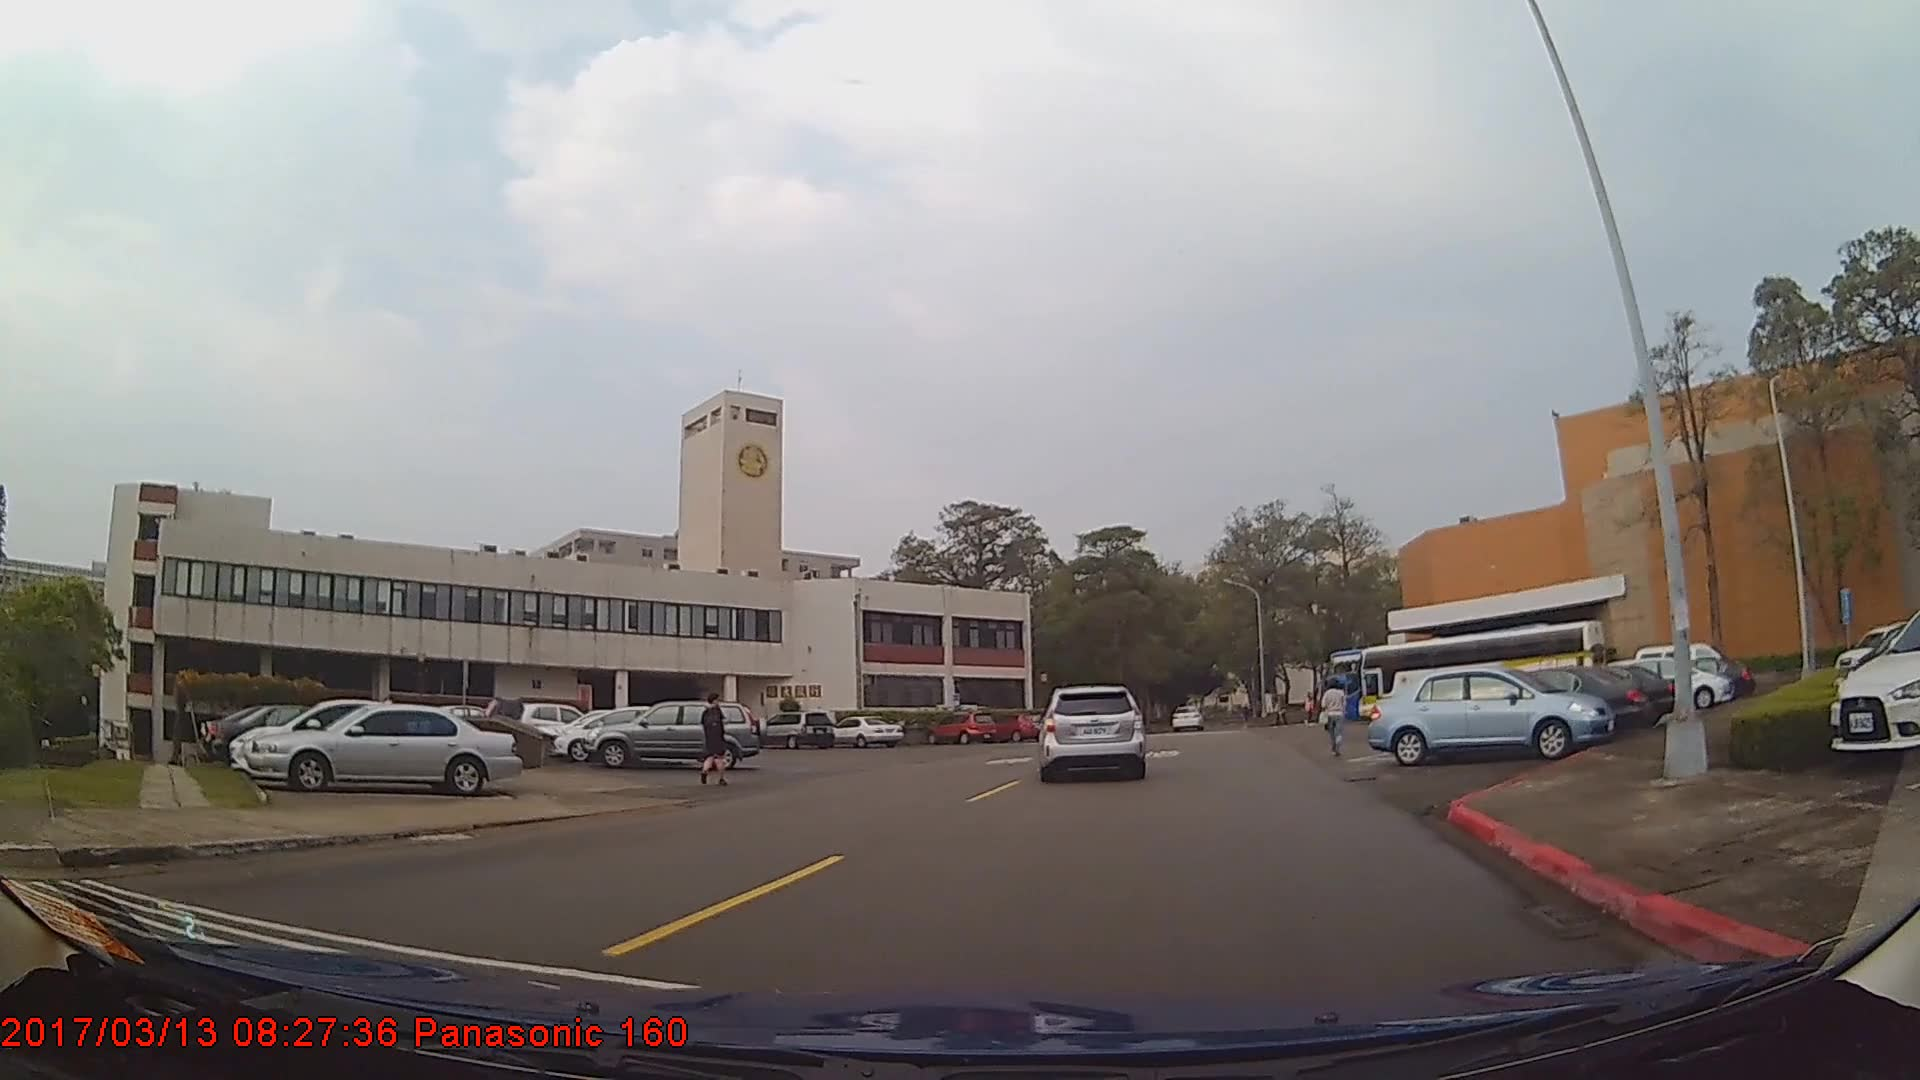pedestrian: (1319, 676, 1353, 759), (699, 694, 729, 787)
vehicle: (244, 700, 523, 793), (1366, 664, 1613, 766), (226, 695, 458, 780), (1436, 665, 1653, 738), (580, 698, 767, 768), (1830, 607, 1920, 749), (210, 703, 405, 768), (1039, 683, 1144, 782), (1511, 664, 1687, 724), (554, 703, 700, 763), (518, 699, 601, 747), (756, 708, 835, 750), (925, 708, 998, 744), (827, 713, 904, 746), (1170, 704, 1205, 732)
